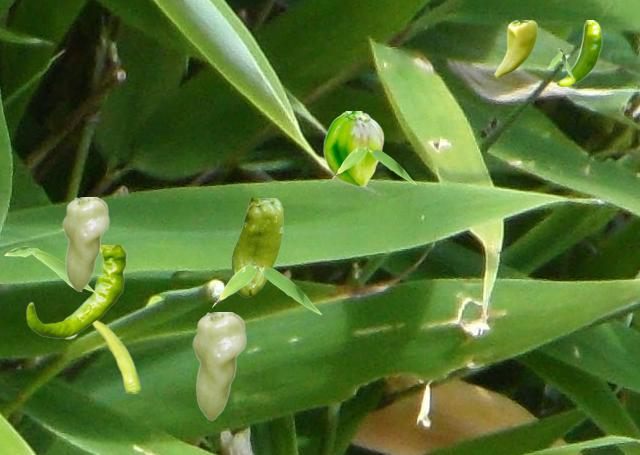green_chili: (26, 245, 126, 338), (192, 312, 245, 419), (231, 198, 282, 296), (323, 111, 383, 186), (62, 197, 108, 290), (92, 320, 139, 392), (556, 20, 601, 86), (494, 20, 536, 77)
